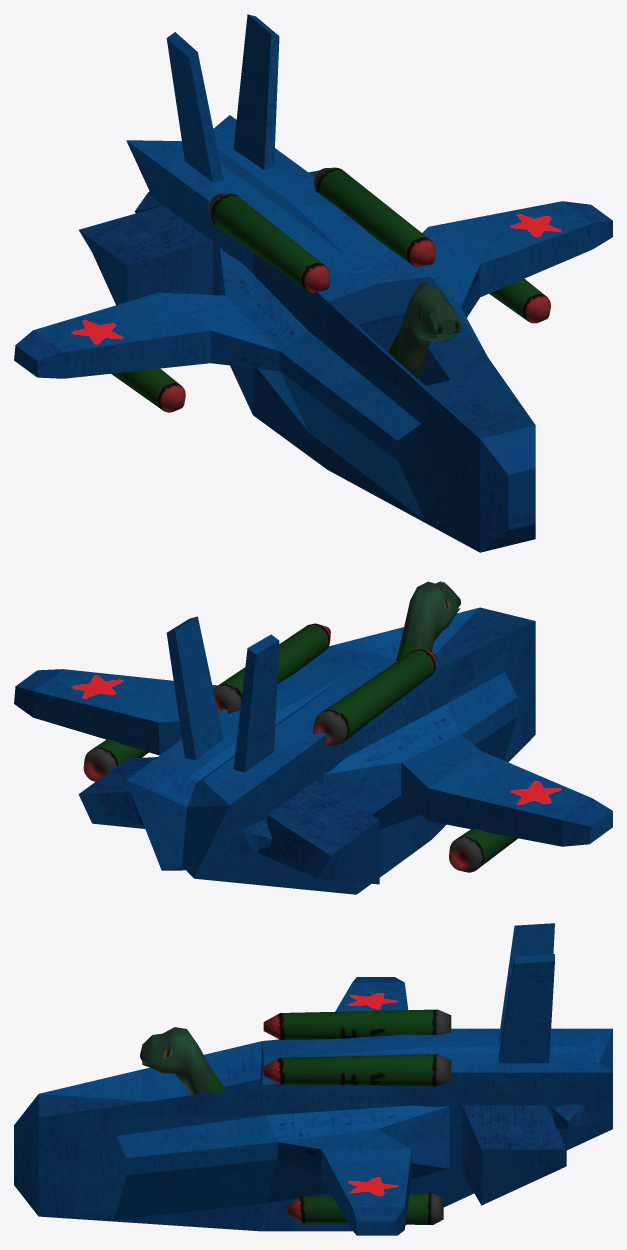
Rendered from tower-avion-2.fbx.
3 renders of one model, top to bottom at view 1: azimuth 30°, elevation 25°; view 2: azimuth 150°, elevation 25°; view 3: azimuth 270°, elevation 25°, orthographic. The views are drawn at different scales.
Visible parts, largest first — view 1: tower-avion-turret-2; view 2: tower-avion-turret-2; view 3: tower-avion-turret-2.
Part boxes in pixels (x1,y1,x2,y2): tower-avion-turret-2: (14,14,612,552); tower-avion-turret-2: (14,581,612,894); tower-avion-turret-2: (14,923,612,1235).
Bounding box in the file's own units: 800 × 413 × 828.
